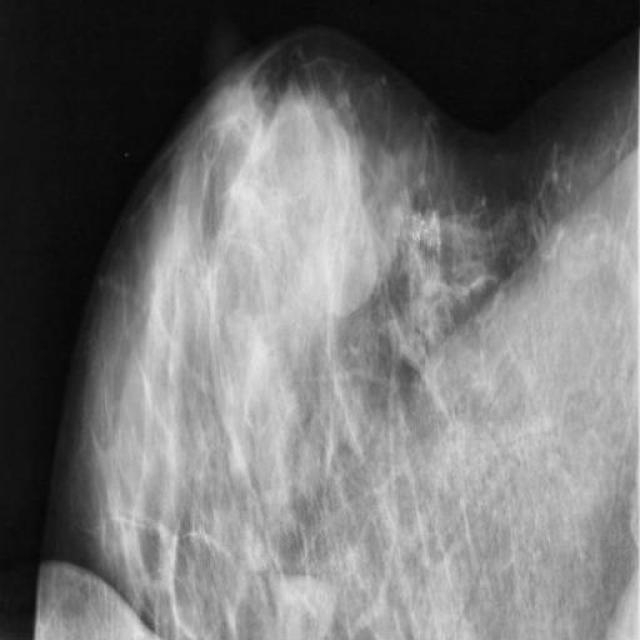cancer: (318, 338, 372, 492)
